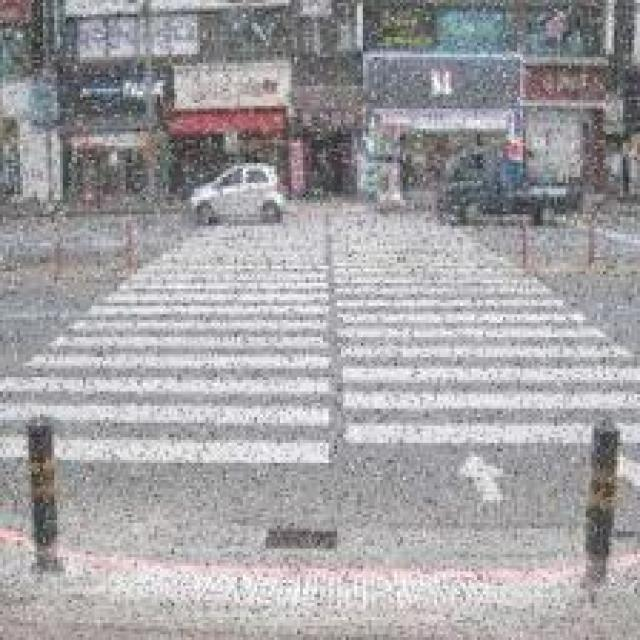crosswalk: (4, 207, 640, 476)
